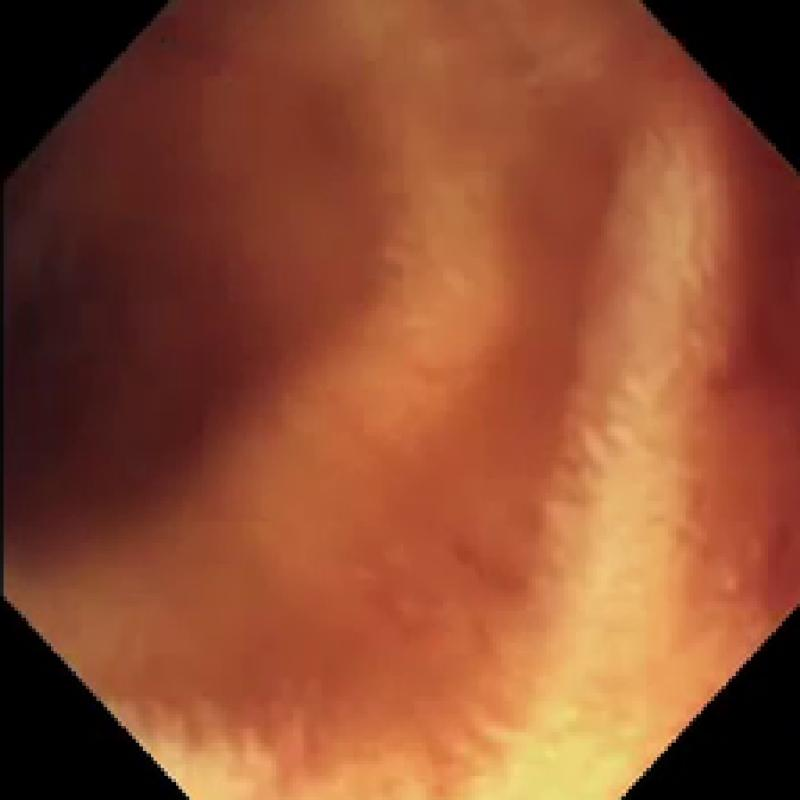bleeding: (0, 4, 800, 750)
